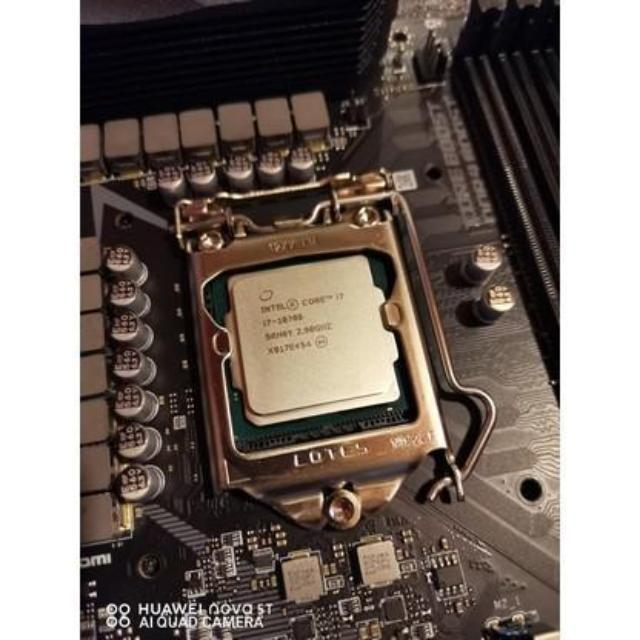CPU: (230, 268, 385, 408)
